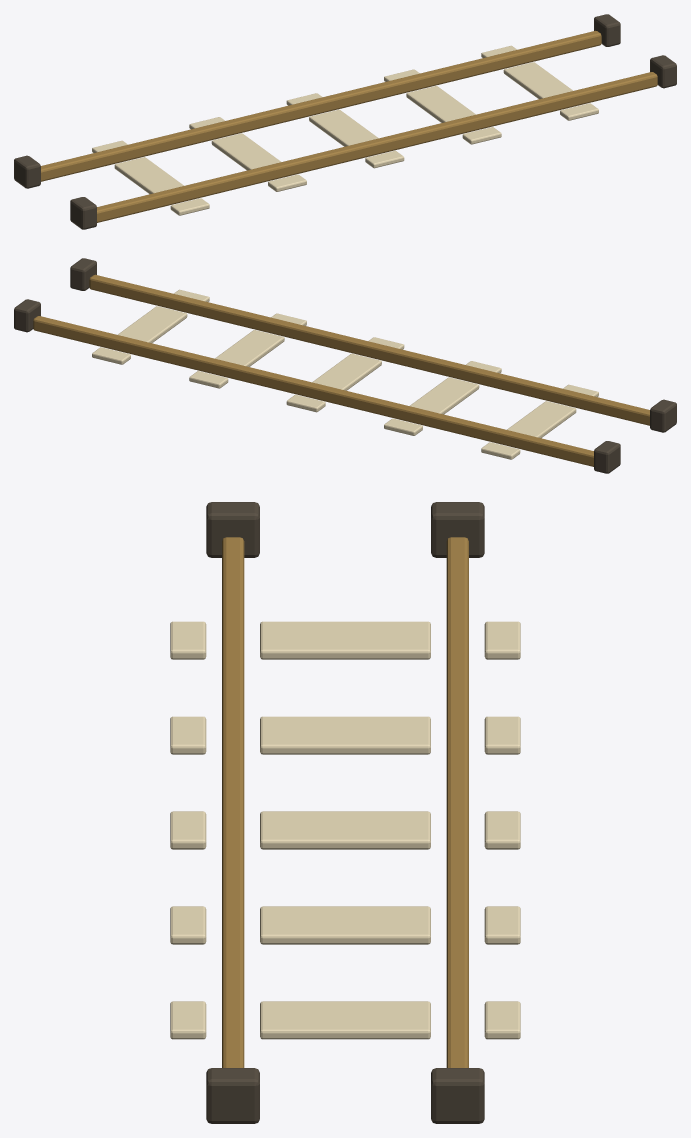
The model's file is mirror-rail-v01.glb.
3 views of the same model, one above another, from view 1: azimuth 30°, elevation 25°; view 2: azimuth 150°, elevation 25°; view 3: azimuth 270°, elevation 25° (orthographic). The views are drawn at different scales.
Parts seen in each view (by area): view 1: Shadow brass 0, Shadow sandstone light 2, Shadow bronze dark 1; view 2: Shadow brass 0, Shadow sandstone light 2, Shadow bronze dark 1; view 3: Shadow sandstone light 2, Shadow brass 0, Shadow bronze dark 1.
Boxes of the visible parts, box(x1,y1,x2,y2) form: Shadow brass 0: box(41, 30, 657, 222); Shadow sandstone light 2: box(92, 45, 598, 215); Shadow bronze dark 1: box(14, 14, 676, 229); Shadow brass 0: box(33, 274, 649, 466); Shadow sandstone light 2: box(92, 289, 598, 459); Shadow bronze dark 1: box(14, 258, 676, 473); Shadow sandstone light 2: box(170, 621, 520, 1039); Shadow brass 0: box(222, 537, 468, 1067); Shadow bronze dark 1: box(206, 502, 484, 1123).
Bounding box in the file's own units: 3.06 × 0.11 × 0.78.
